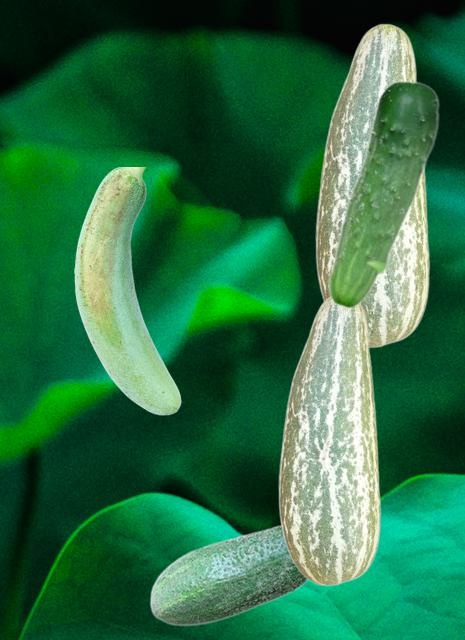cucumber: (315, 23, 429, 347), (278, 297, 380, 585), (74, 167, 180, 414), (327, 80, 439, 308), (149, 524, 308, 625)
